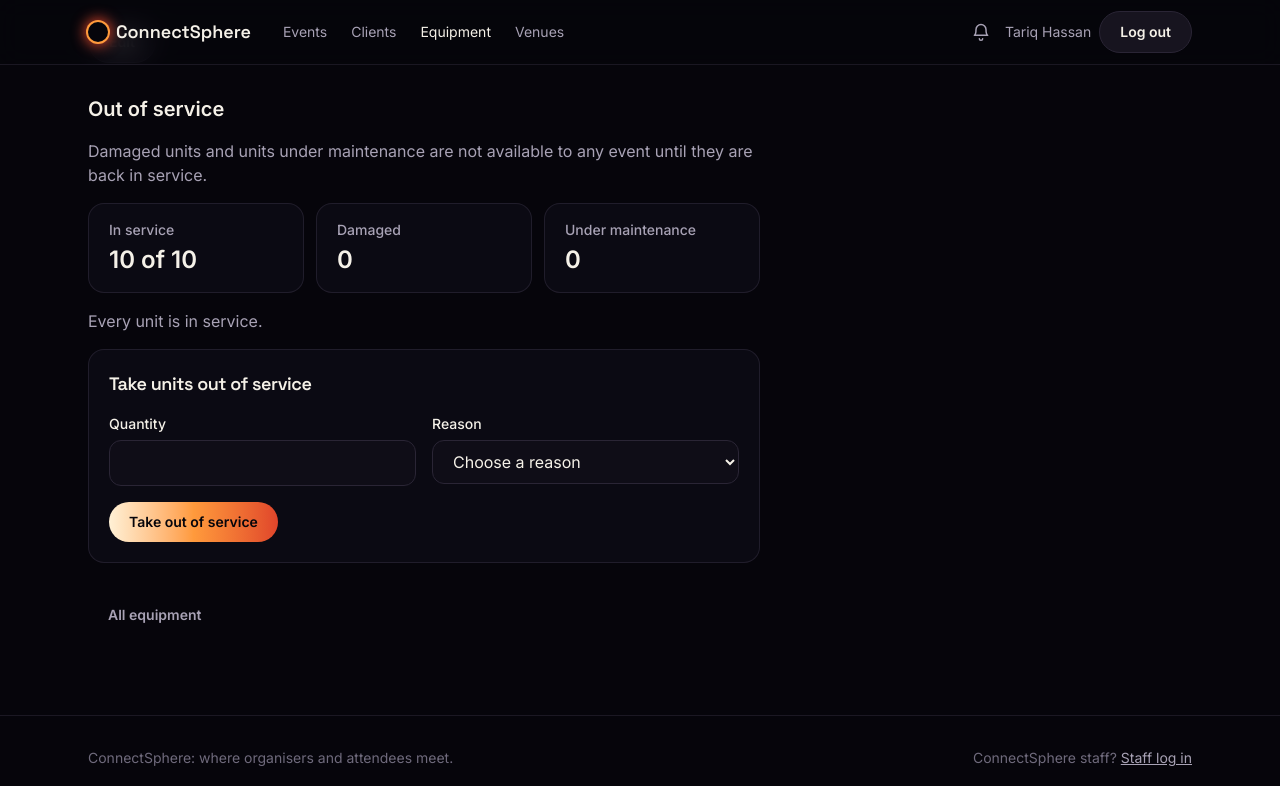
Scenario: SCRUM-47 units out of service on an equipment type page › puts units back in service, saying who did it when, and counts them again (AC1, AC4)
The width and height of the screenshot is (1280, 786).
(page scrolled)
Type "2" into the number field labelled "Quantity".
click(262, 463); type("2")  # box [109,440,416,486]
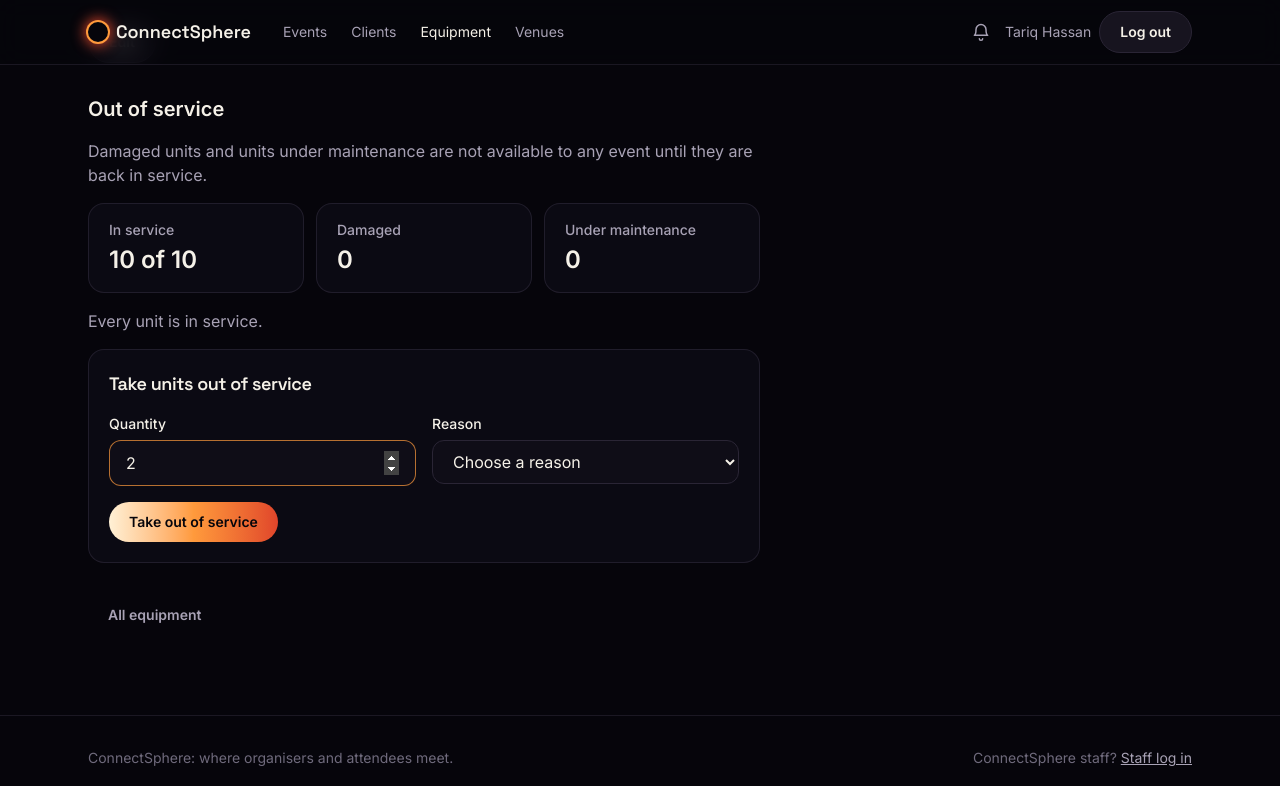
Select "Damaged" in the dropdown labelled "Reason" at [586, 462], box [432,440,739,484]
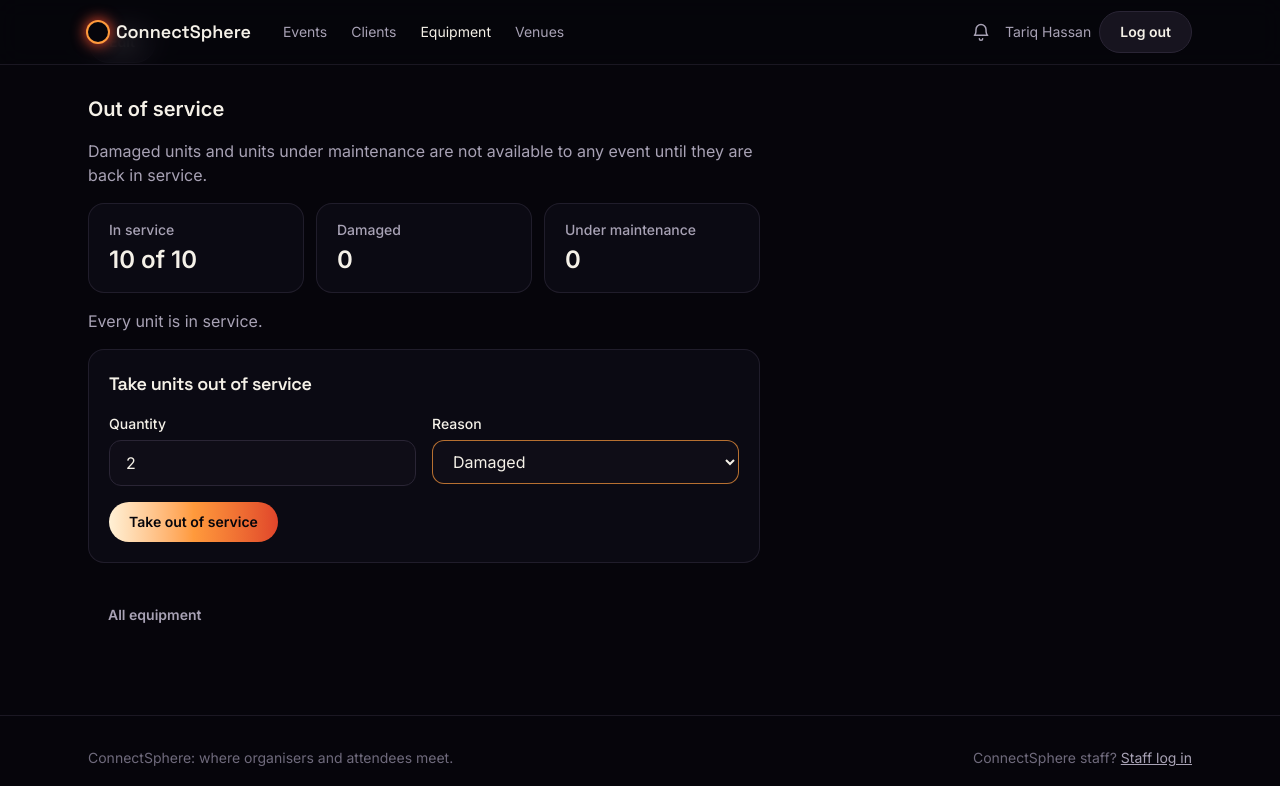
Click the button "Take out of service".
click(193, 522)  # box [109,502,278,542]
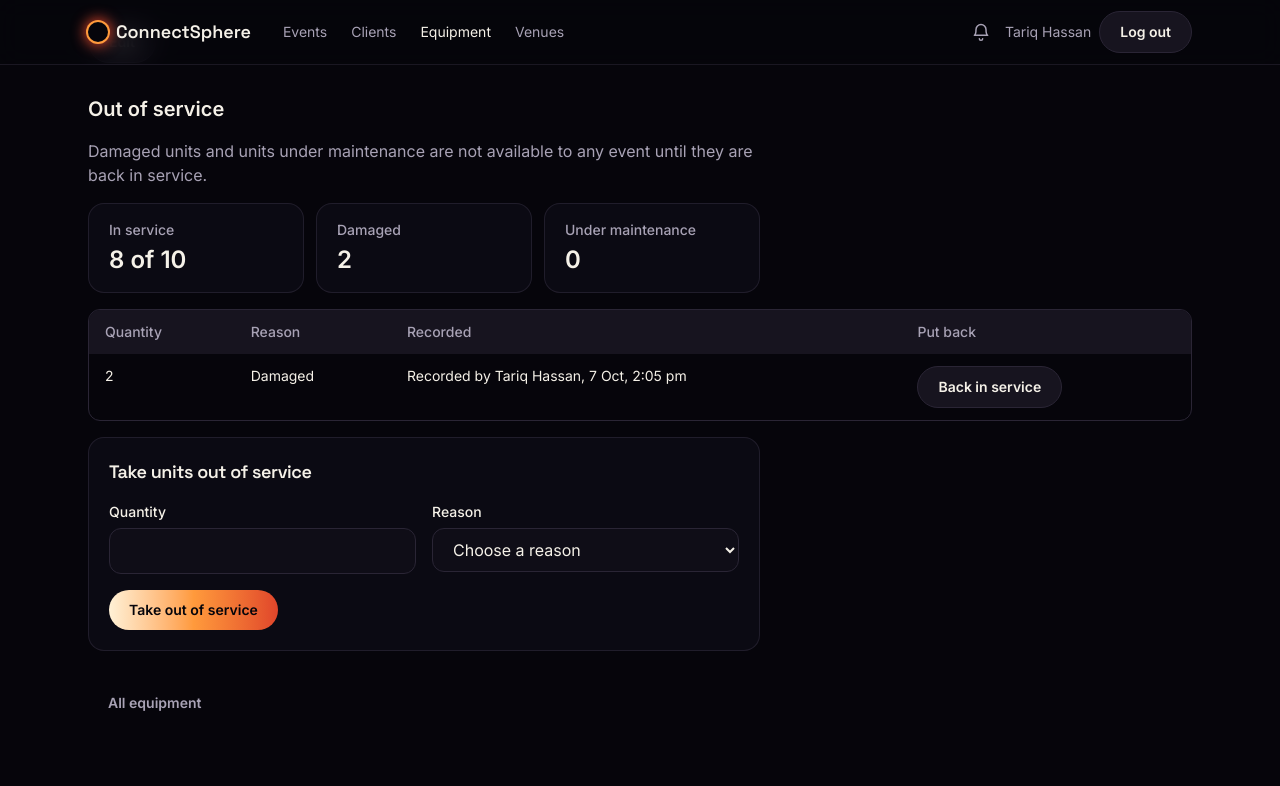
Click the button with aria-label "Put 2 Damaged units back in service".
click(990, 387)  # box [918,366,1062,408]
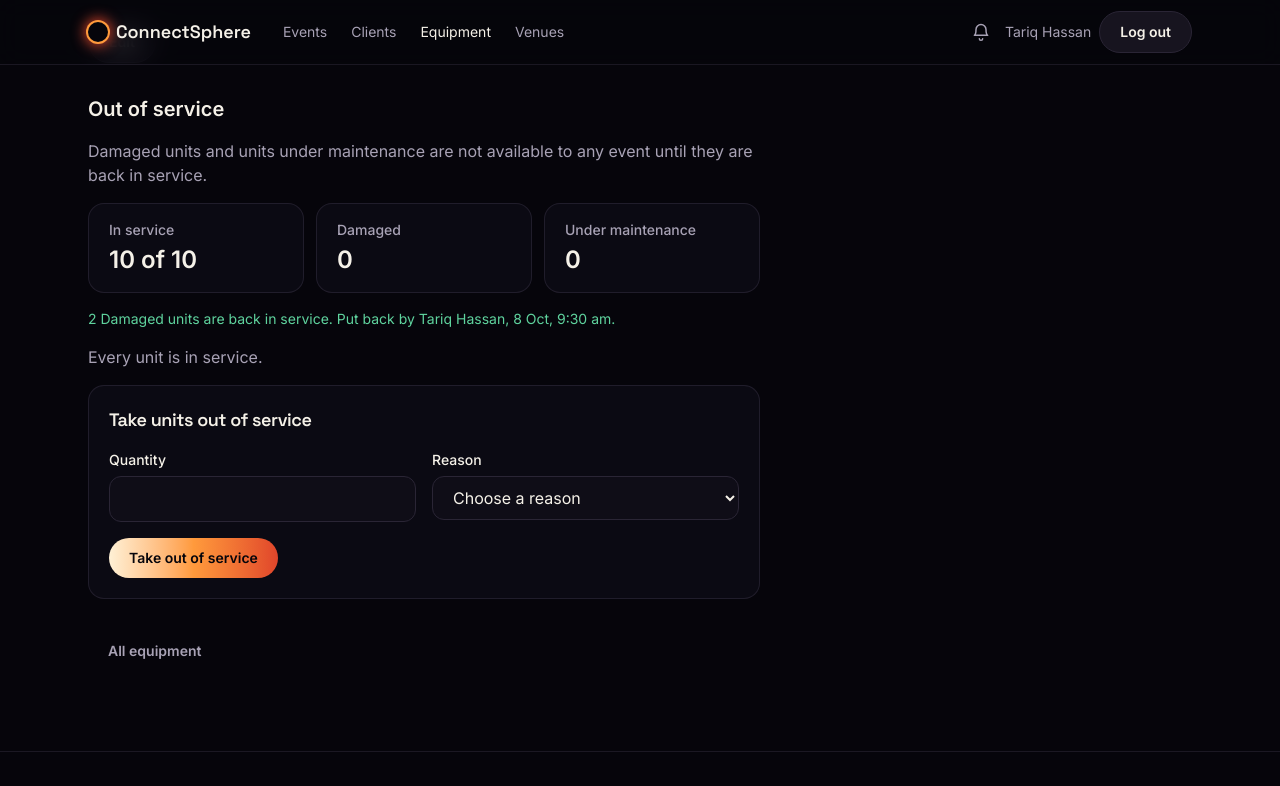
Result: the message reads "2 Damaged units are back in service. Put back by Tariq Hassan, 8 Oct, 9:30 am." at [88,310,615,327]
Result: the text "Every unit is in service." is shown at [88,347,263,367]
